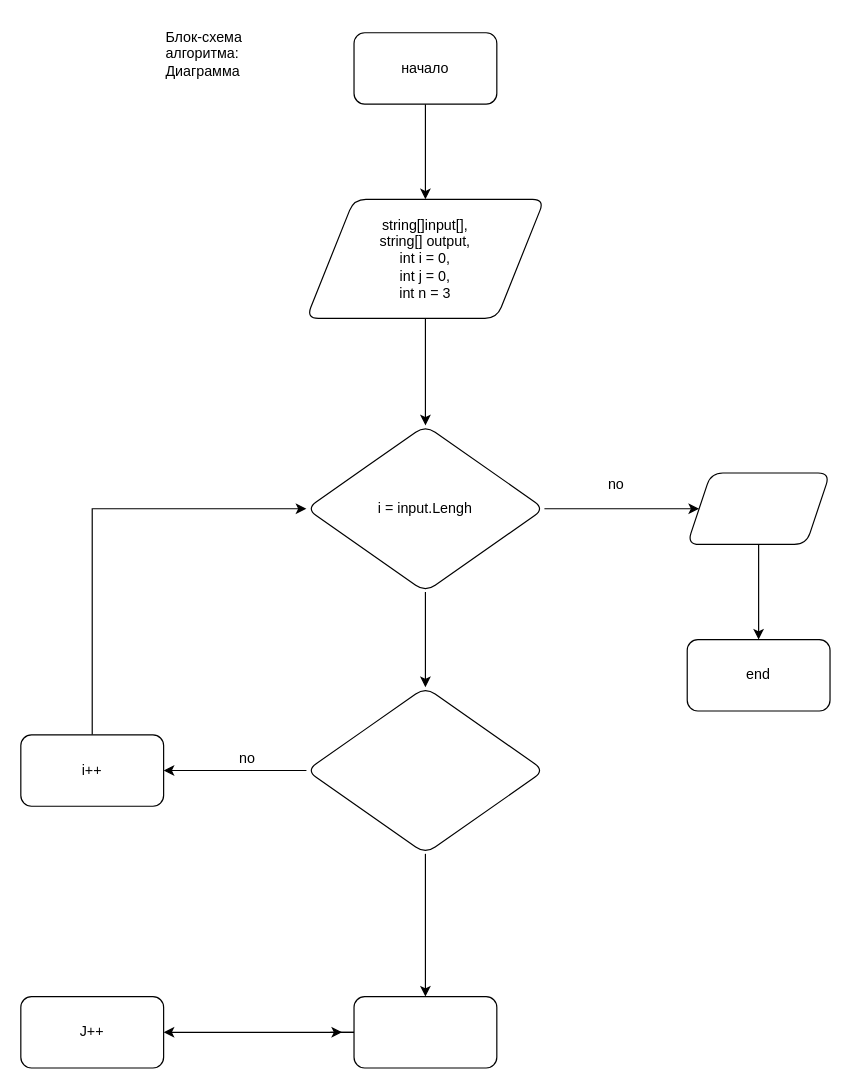
The diagram is 851 pixels wide and 1089 high, and some of its shapes have lost their labels. Here are the shapes that lost their labels. From the top down, the centre of each, then its label:
At (758,508): "output".
At (424,770): "input[i].Lengh<=n".
At (425,1031): "output[j] = input[i]".
